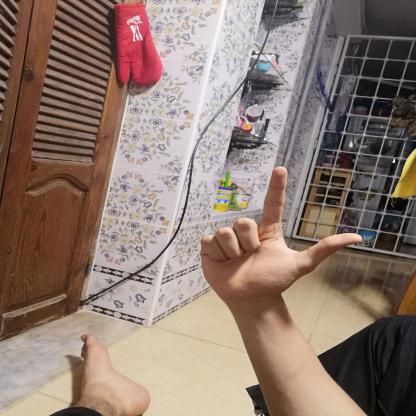LAAM: (182, 157, 373, 315)
